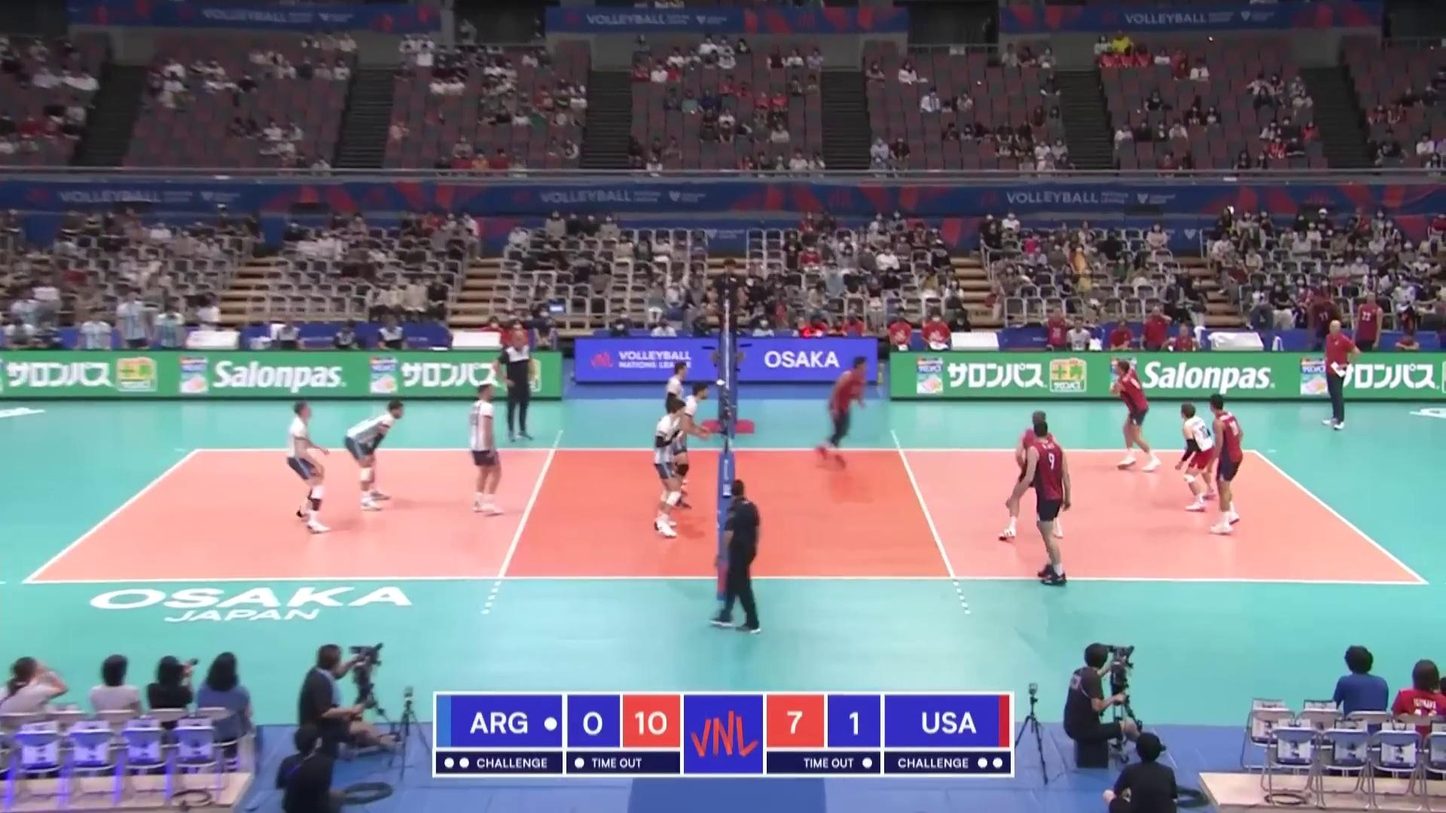player: (1015, 423, 1071, 585), (1003, 408, 1065, 543), (283, 397, 334, 540), (342, 401, 406, 513), (811, 356, 868, 468), (1110, 360, 1159, 473), (1205, 393, 1243, 536), (464, 384, 504, 519), (669, 383, 711, 510), (650, 399, 688, 539), (1177, 402, 1217, 513), (661, 359, 693, 495)
refree: (713, 482, 763, 632), (712, 258, 746, 363)
